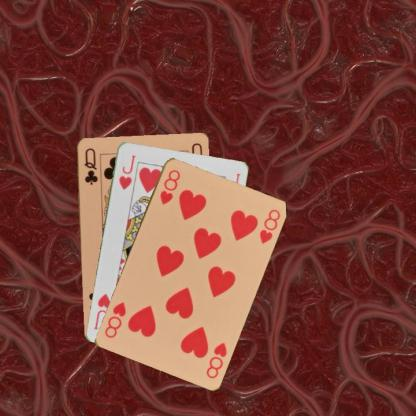8h: (156, 166, 182, 206), (203, 339, 228, 380)
Jh: (115, 152, 137, 191)
Qc: (81, 145, 99, 185)
